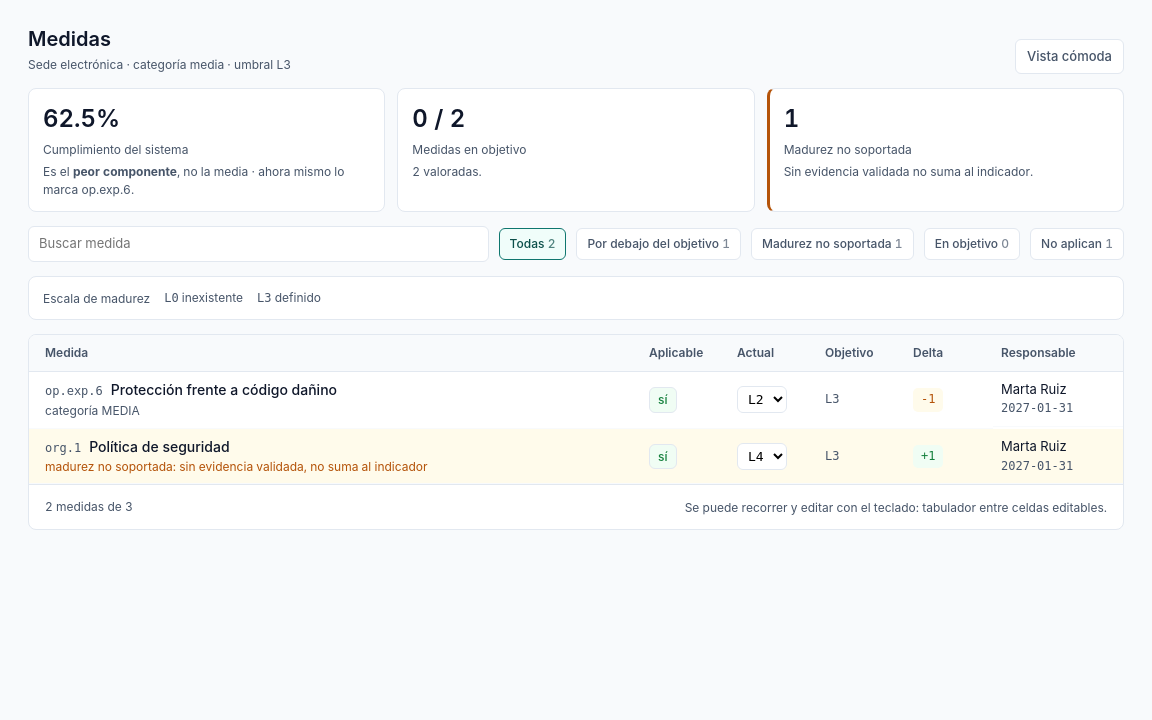
ChecklistView › guarda la madurez y avisa de lo que ha hecho
This screenshot has width=1152, height=720.
Select "L4" in the 1st dropdown with class "selector". click: (762, 400)
box: [737, 386, 787, 413]
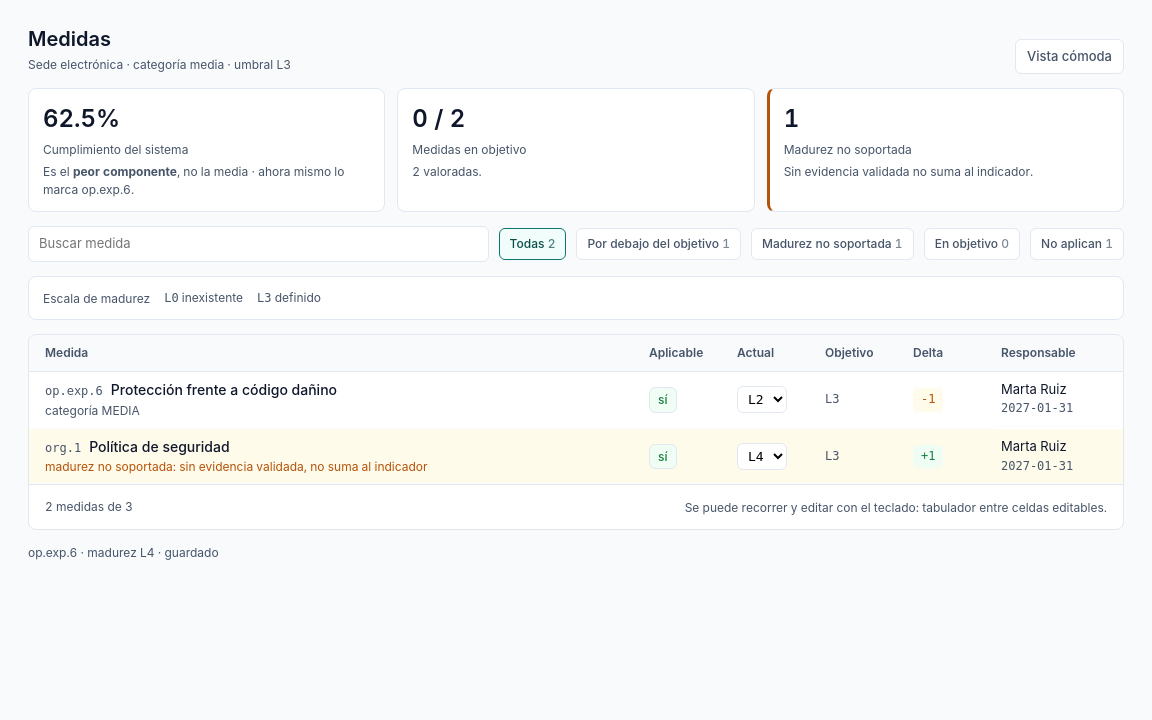
Now the text "madurez L4 · guardado" is shown, box [28, 545, 219, 560]
